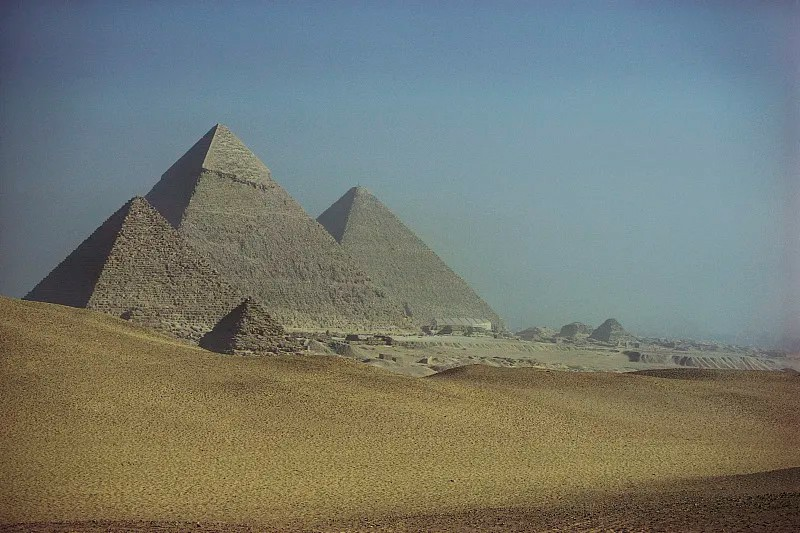Pyramid: (144, 124, 426, 338), (22, 195, 244, 344), (316, 188, 510, 335), (199, 297, 304, 354)
